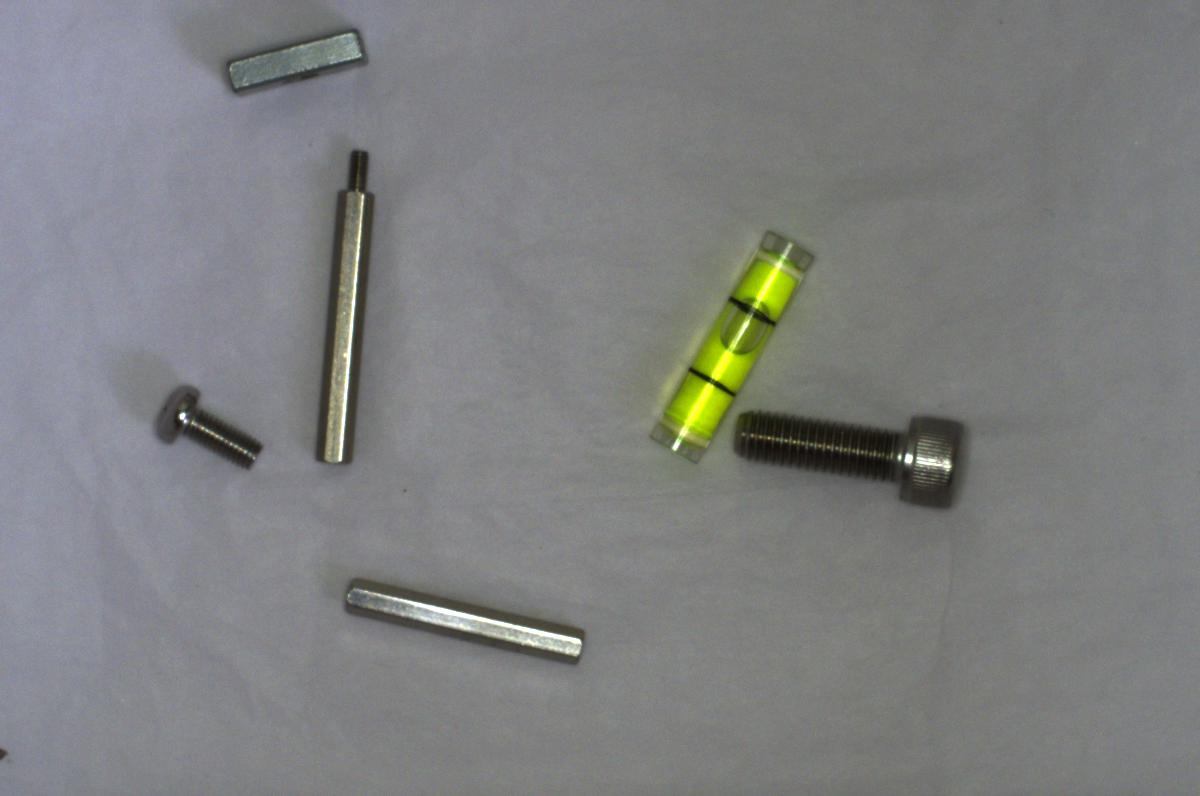Double hexagonal column: (334, 569, 595, 672)
Hexagon screw: (728, 399, 970, 510)
Hexagonal steel column: (308, 142, 372, 465)
Horizontal bubble: (638, 225, 812, 462)
Rectangular nut: (213, 19, 367, 98)
Round head screw: (154, 378, 262, 469)
